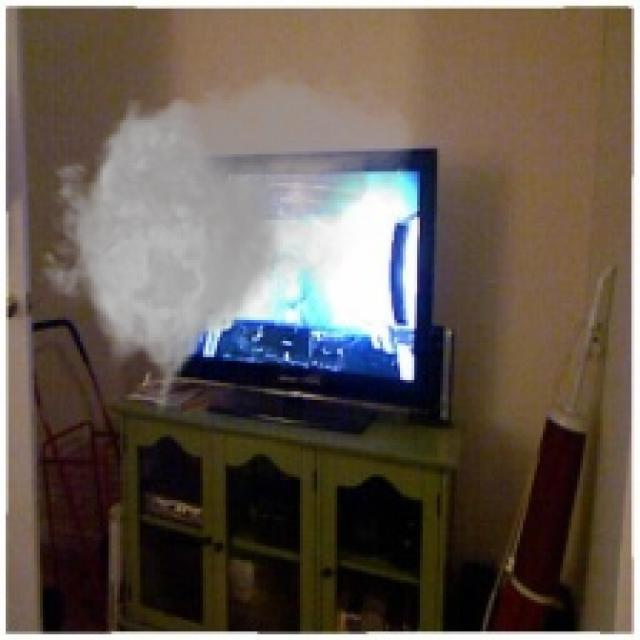smoke: (29, 60, 420, 420)
